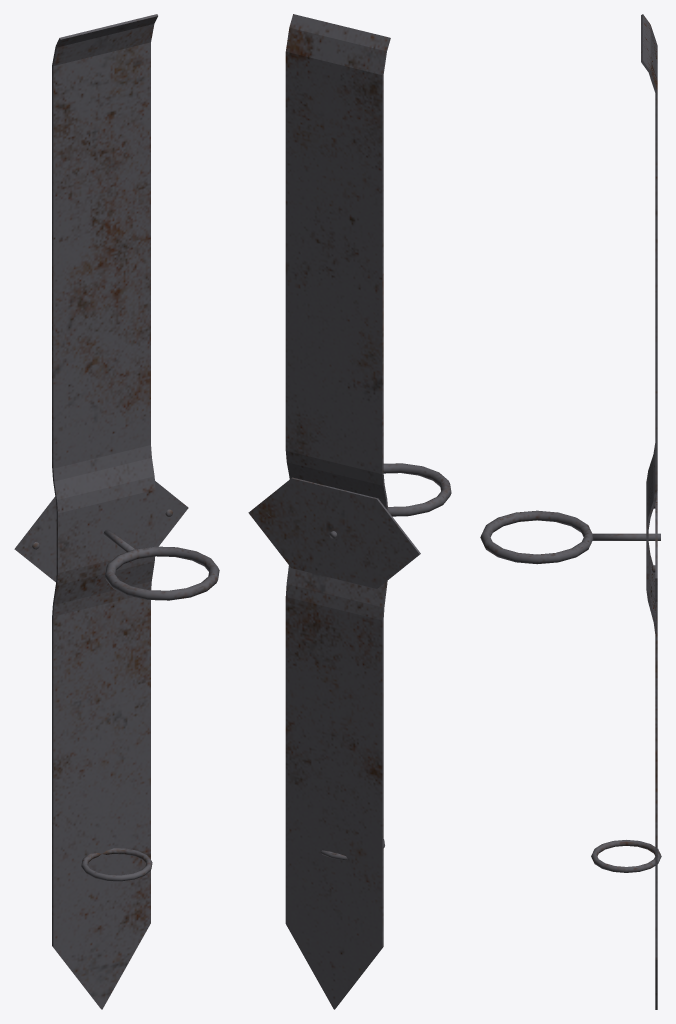
File: torchstand.fbx
3 views of the same model, side by side, from view 1: azimuth 30°, elevation 25°; view 2: azimuth 150°, elevation 25°; view 3: azimuth 270°, elevation 25° (orthographic).
Visible parts, largest first — view 1: torchstand; view 2: torchstand; view 3: torchstand.
Boxes of the visible parts, x1,y1,x2,y2 form: torchstand: [14, 14, 219, 1009]; torchstand: [248, 14, 451, 1009]; torchstand: [480, 14, 661, 1009].
Bounding box in the file's own units: 7.61 × 41.53 × 7.02.
